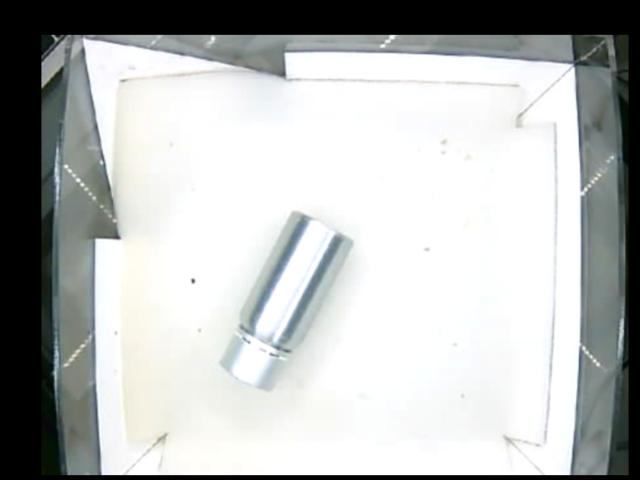Bottle: (216, 210, 353, 388)
